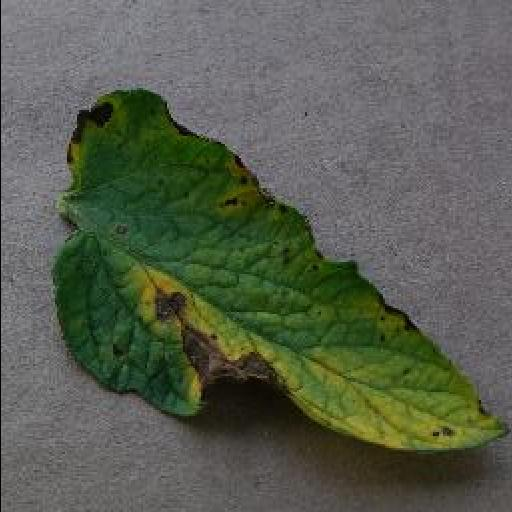disease_tomato: (54, 88, 512, 454)
